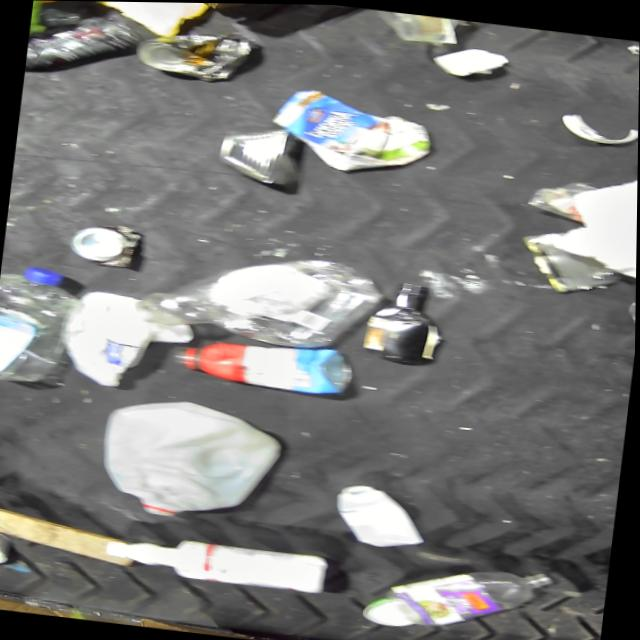can: (130, 20, 261, 86), (513, 223, 626, 299), (212, 118, 307, 191), (66, 219, 143, 271), (0, 525, 14, 569), (620, 297, 637, 323)
milk_jug: (93, 390, 289, 530), (56, 285, 202, 397)
non_white_jug: (132, 238, 388, 355)
plastic_bottle: (0, 262, 82, 388)
